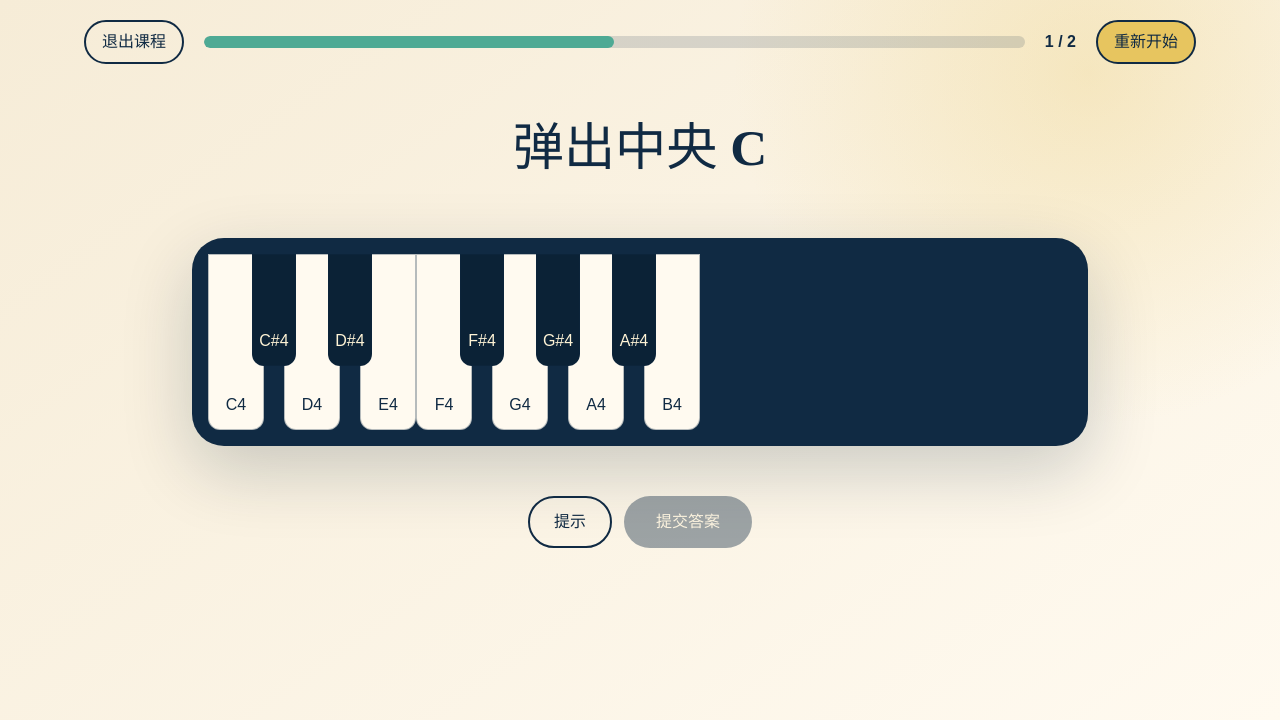
Test: confirms restarting and clears session, feedback, audio, and same-step renderer state
What coordinates should you click on to do the following:
click the button "D4"
I would click on:
 (312, 342)
Its box is [284,254,340,430].
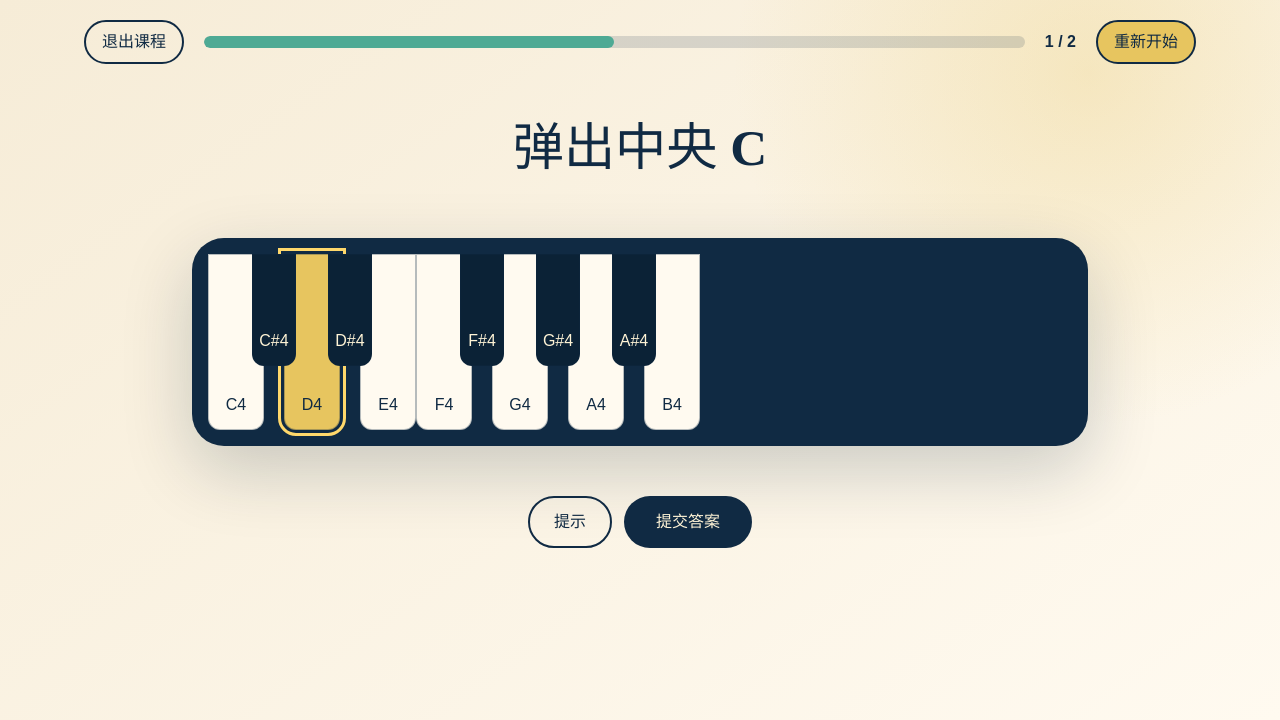
Result: the button "D4" is pressed at [284,254,340,430]
What coordinates should you click on to do the following:
click the button "提交答案"
I would click on:
 (688, 522)
Its box is [624,496,752,548].
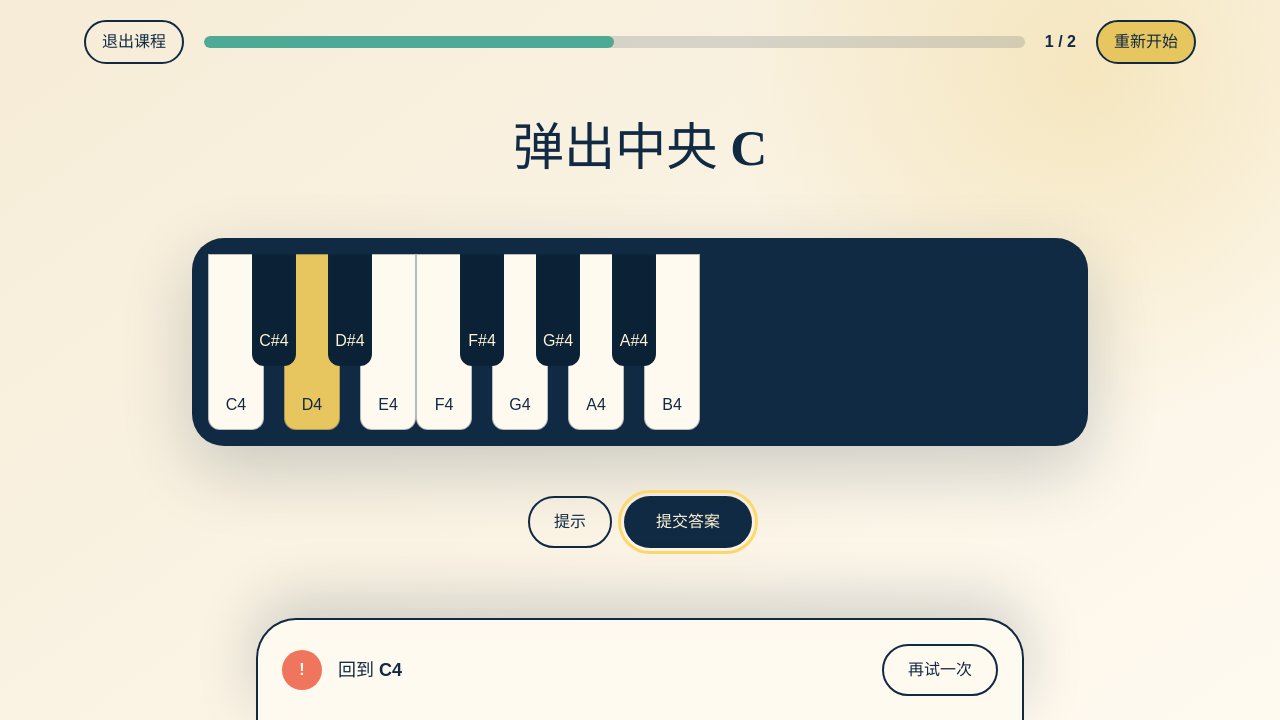
Result: the dialog named "需要调整，反馈级别 1" is shown at [256,618,1024,719]
What coordinates should you click on to do the following:
click the button "重新开始"
I would click on:
 (1146, 42)
Its box is [1096,20,1196,64].
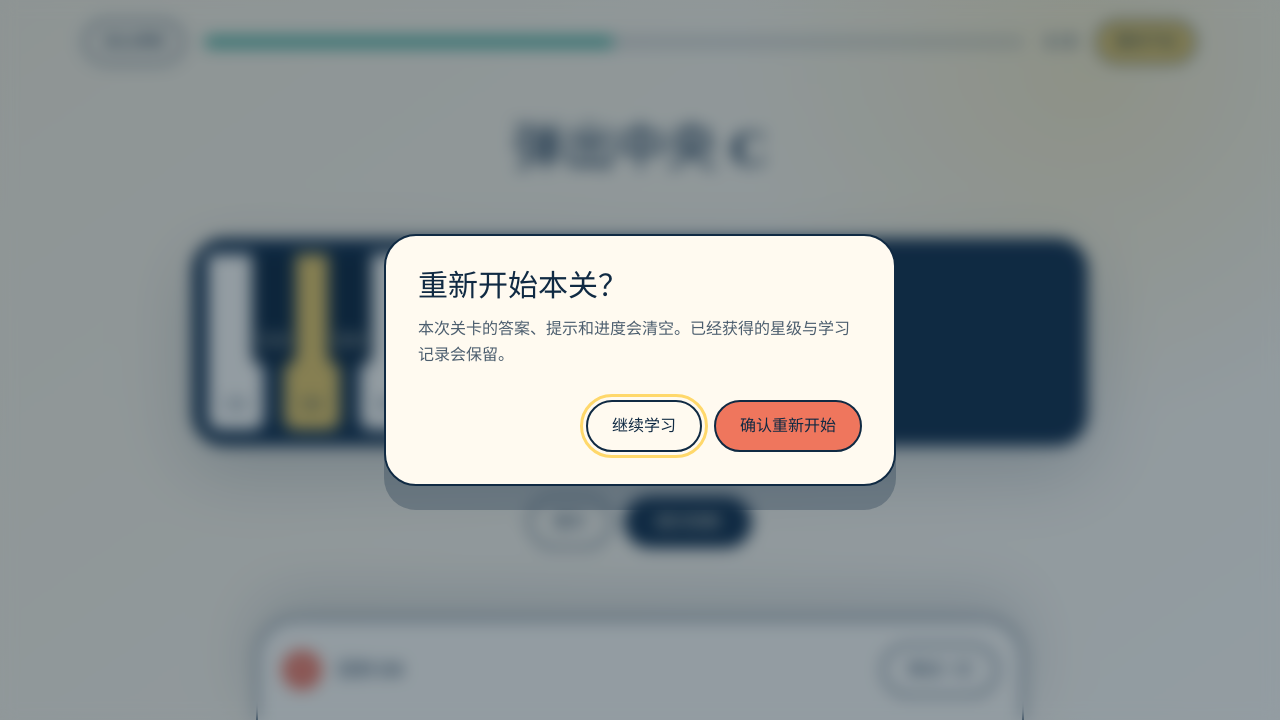
What coordinates should you click on to do the following:
click the button "确认重新开始"
I would click on:
 (788, 426)
Its box is [714,400,862,452].
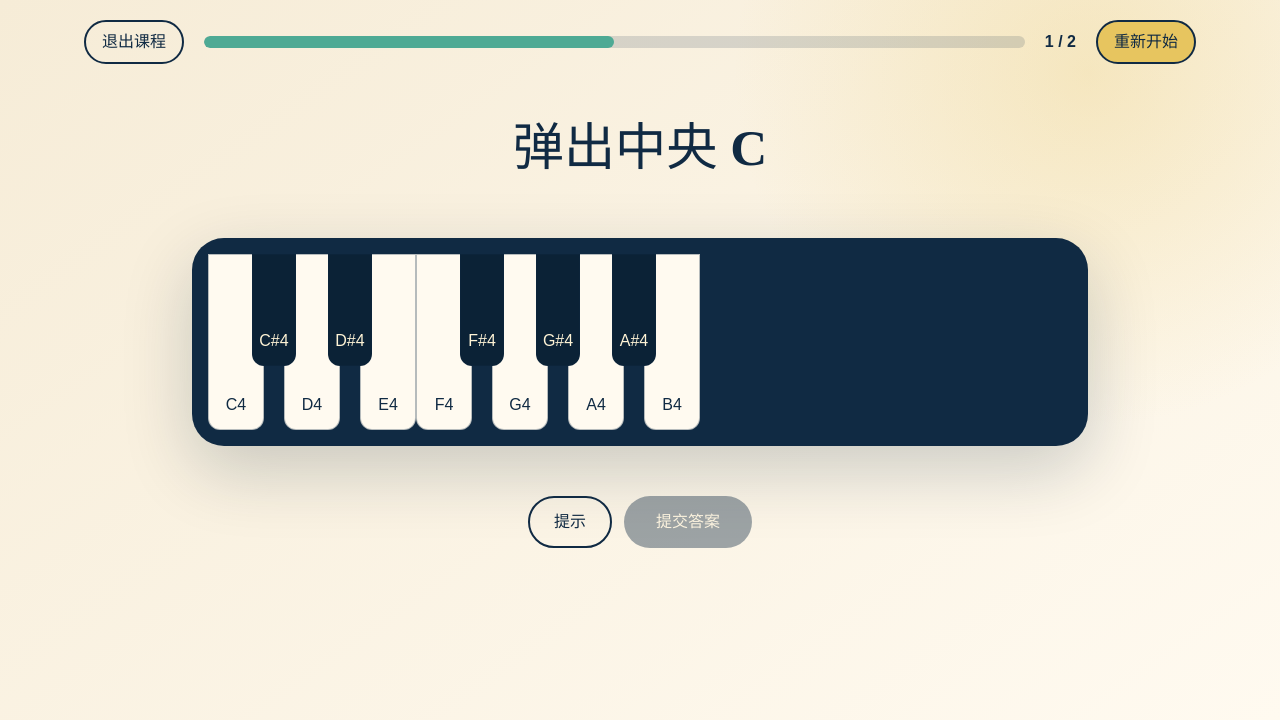
Expected: the heading "弹出中央 C" is shown, [513,116,767,180]
Result: the dialog is gone
Result: the button "提交答案" is disabled at [624,496,752,548]
